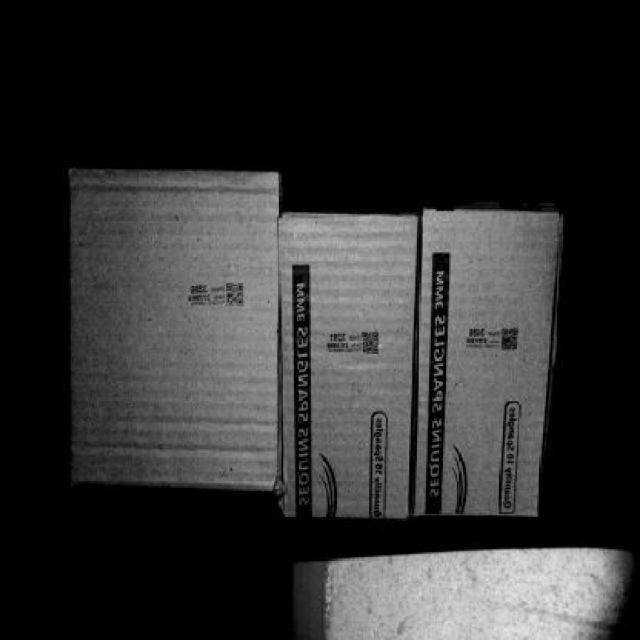cardboxes: (69, 174, 276, 491), (408, 210, 558, 512), (279, 215, 415, 517)
